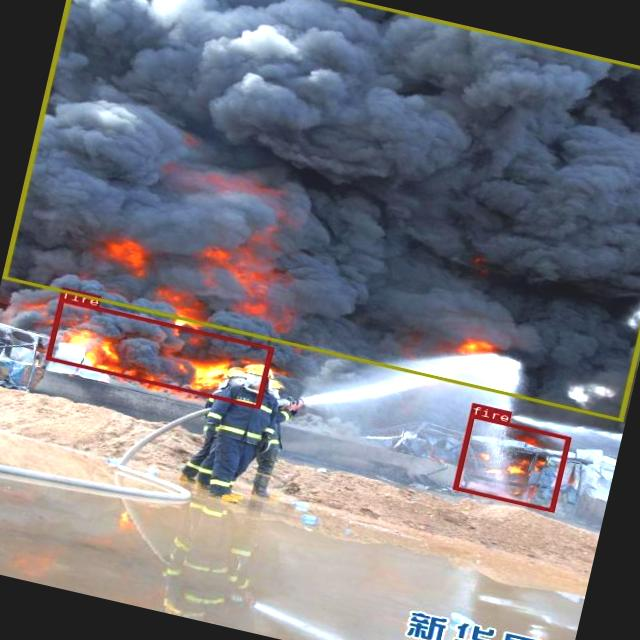fire: (45, 298, 272, 408), (452, 414, 570, 512)
smoke: (1, 0, 640, 421)
